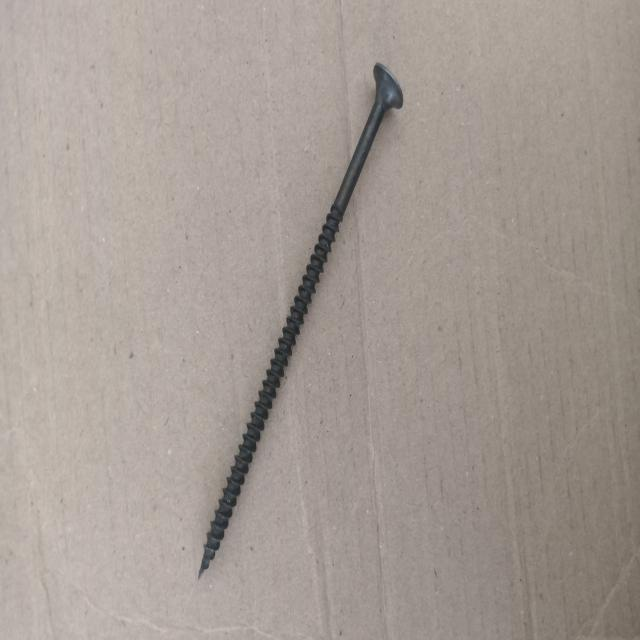screw: (197, 62, 403, 581)
